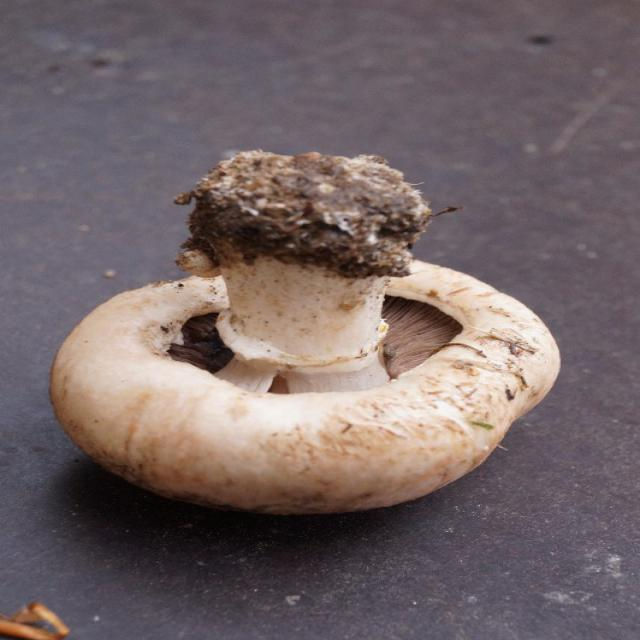Agaricus bisporus: (55, 147, 561, 512)
